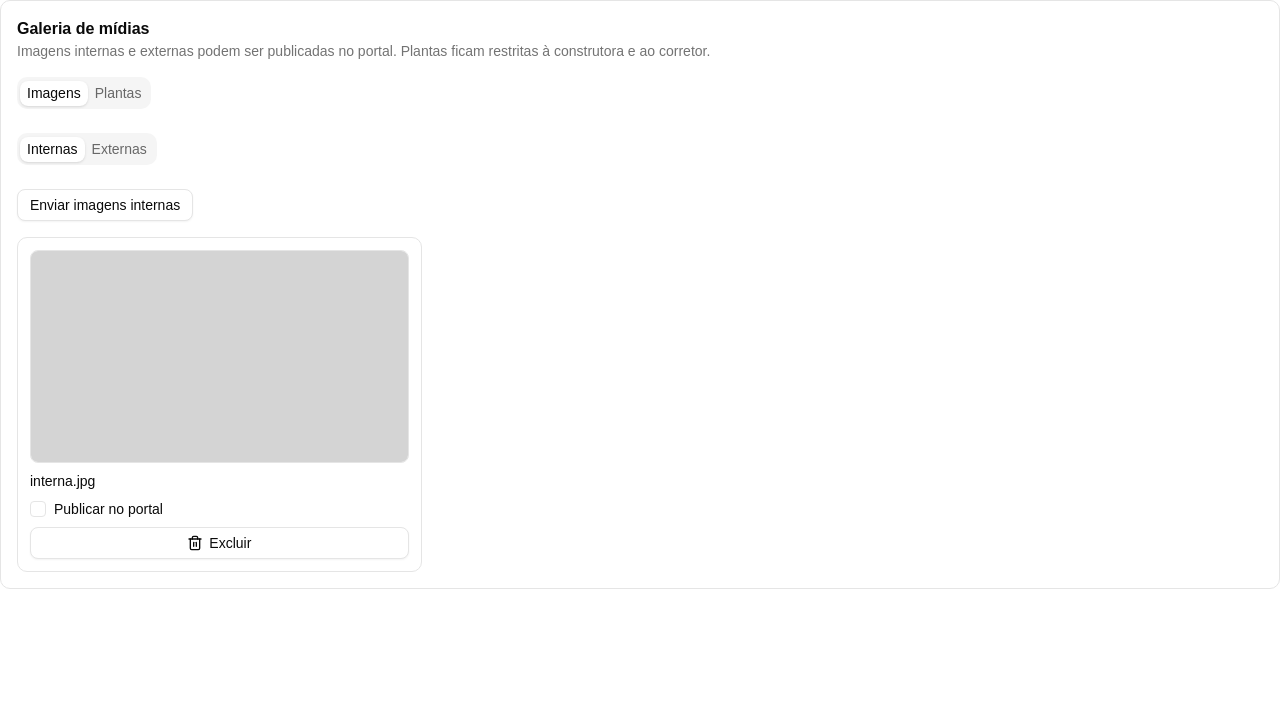
Test: BuildingMediaGallery › shows publish toggle for internal images and not for floor plans
This screenshot has width=1280, height=720.
Expected: the checkbox "Publicar no portal" is shown, [30,501,163,517]
Click the tab "Plantas" at (118, 93), box [88,80,148,106]
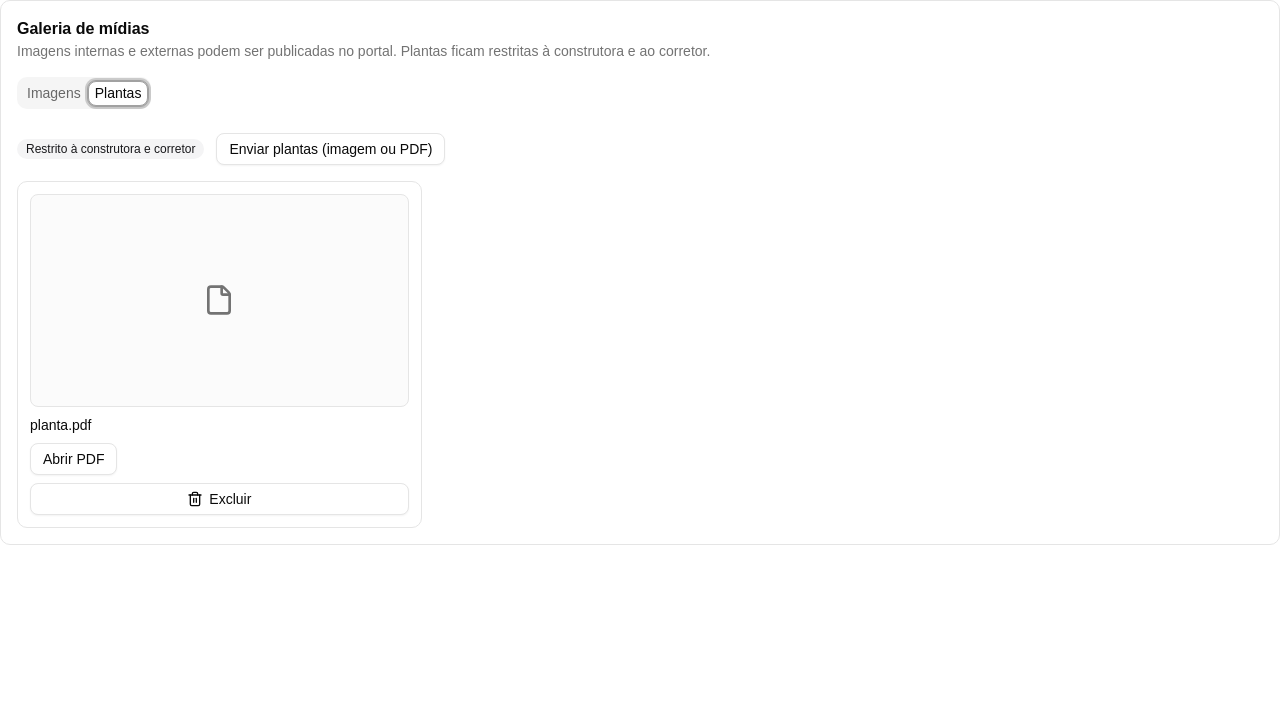
Expected: the checkbox "Publicar no portal" is gone
Expected: the text "Restrito à construtora e corretor" is shown, [17,139,204,159]
Expected: the text "planta.pdf" is shown, [30,417,92,433]
